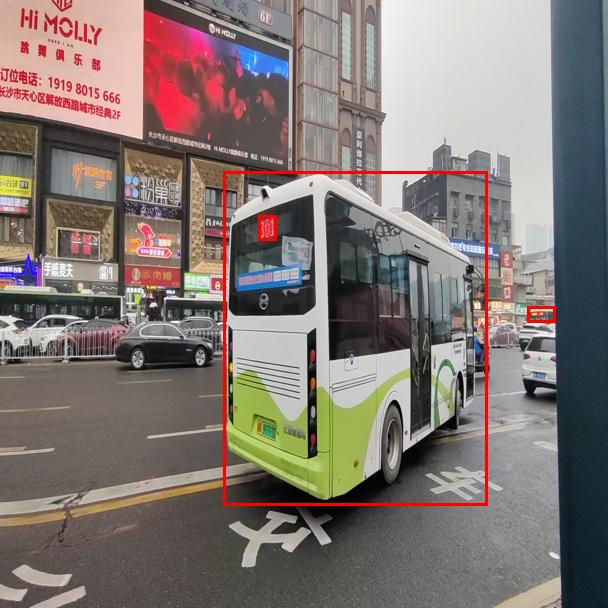bus: (223, 171, 487, 505), (527, 306, 555, 322)
screen: (258, 215, 276, 240)
